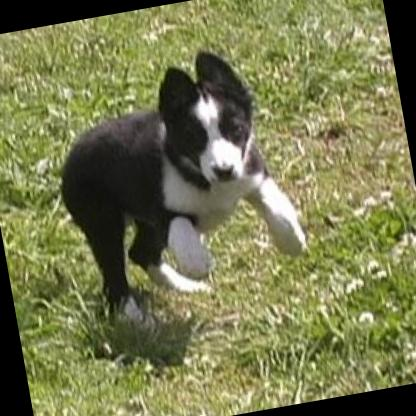Border_collie: (36, 33, 318, 342)
